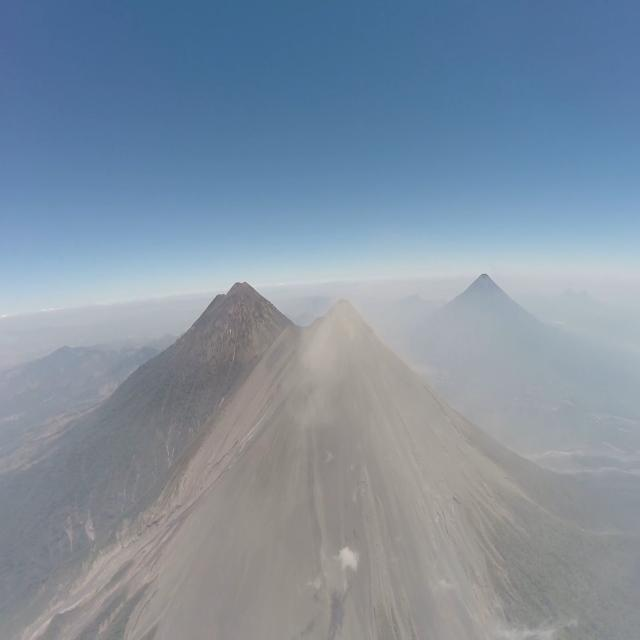Plume: (296, 278, 373, 424)
Summit: (308, 296, 378, 338)
